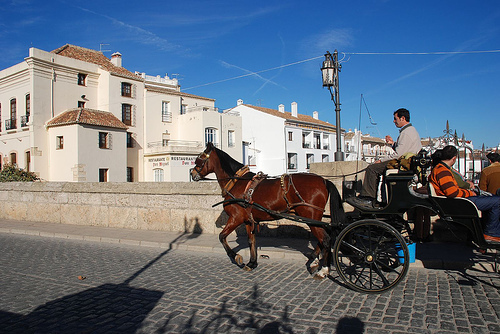horse: (190, 142, 348, 280)
